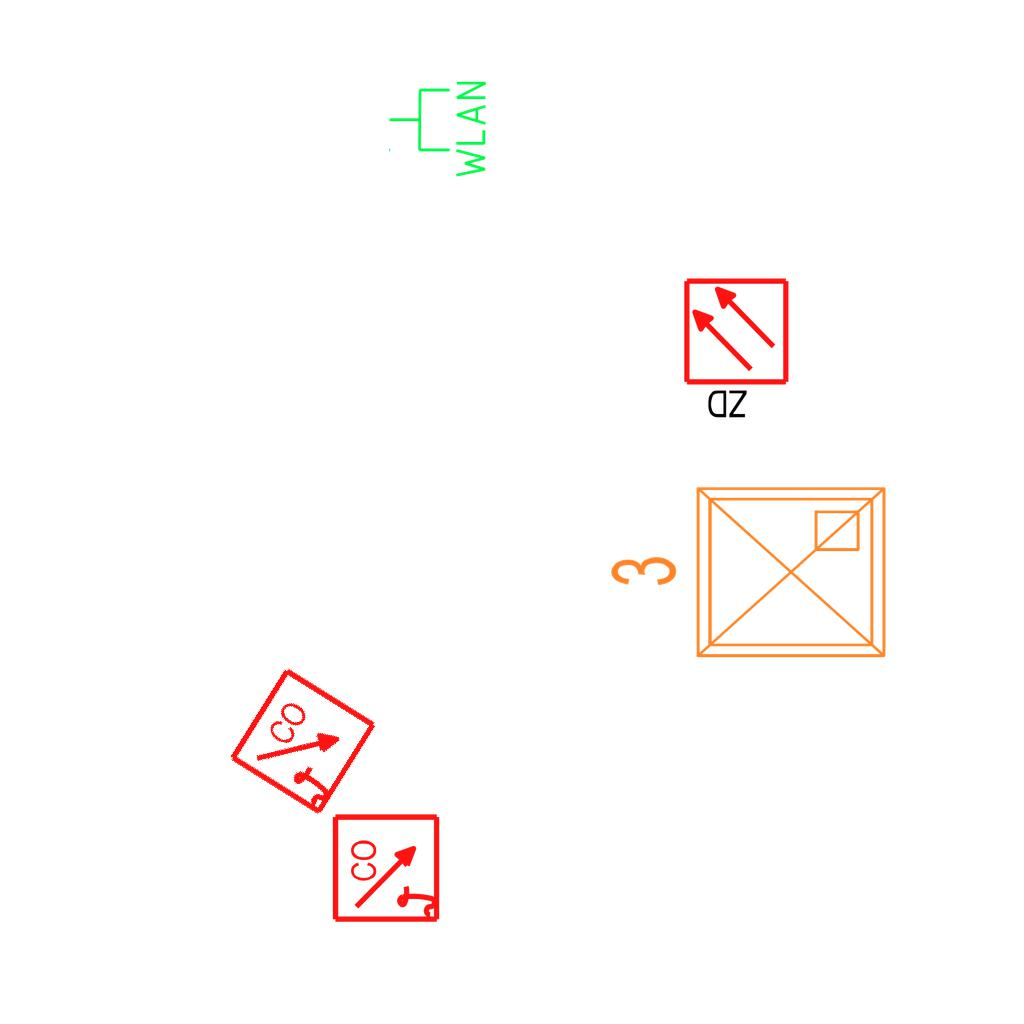Einbaudownlights_LED_Konferenzraeume: (600, 472, 900, 680)
ROA_Rauchmelder_optisch_mit_Signalgeber_(Sockelsirene): (226, 663, 383, 820), (331, 811, 444, 924)
WLAN: (386, 77, 490, 182)
ZD_Melder_in_Zwischendecke_mit_Revisionsoeffnung_mind_40_x_40_cm: (681, 276, 795, 425)
